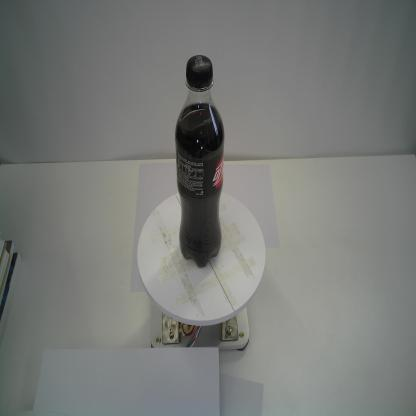Drink: (174, 53, 225, 269)
